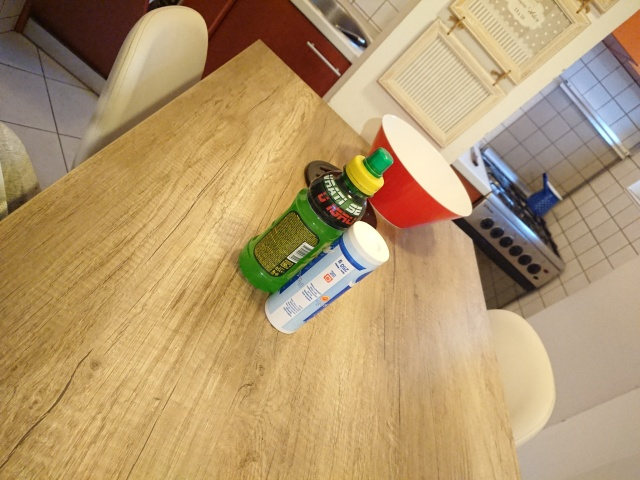Solana Pag Fine Sea Salt 250g: (263, 220, 391, 336)
Vindi Iso Sport Lemon-Grapefruit 500mL: (237, 144, 395, 296)
